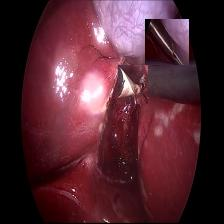Grasper: (145, 20, 189, 65)
Hook: (118, 65, 148, 104)
